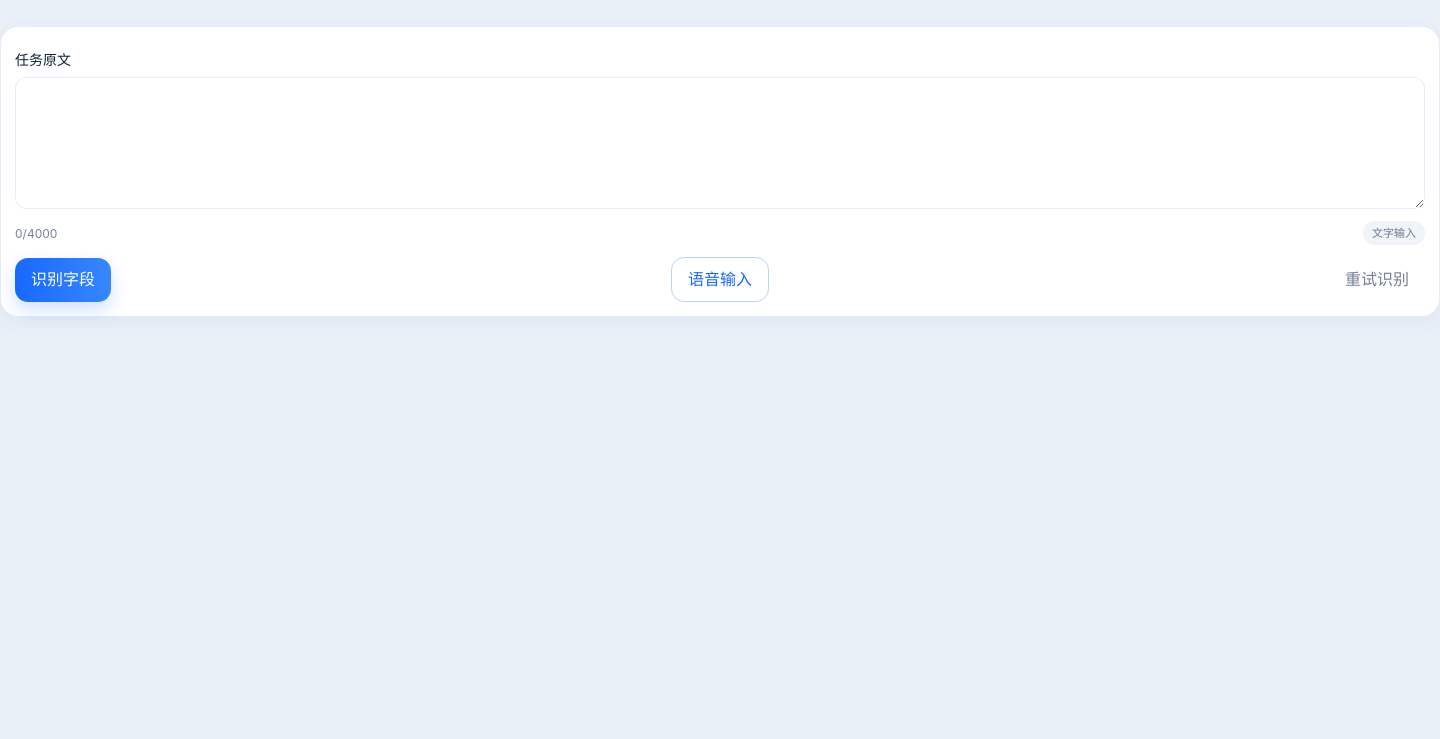
TaskIntakePage › submits text input and renders the structured extraction without creating a task
Type "请完成门店上线方案" into the text box labelled "任务原文" at (720, 143), box [15,77,1425,209]
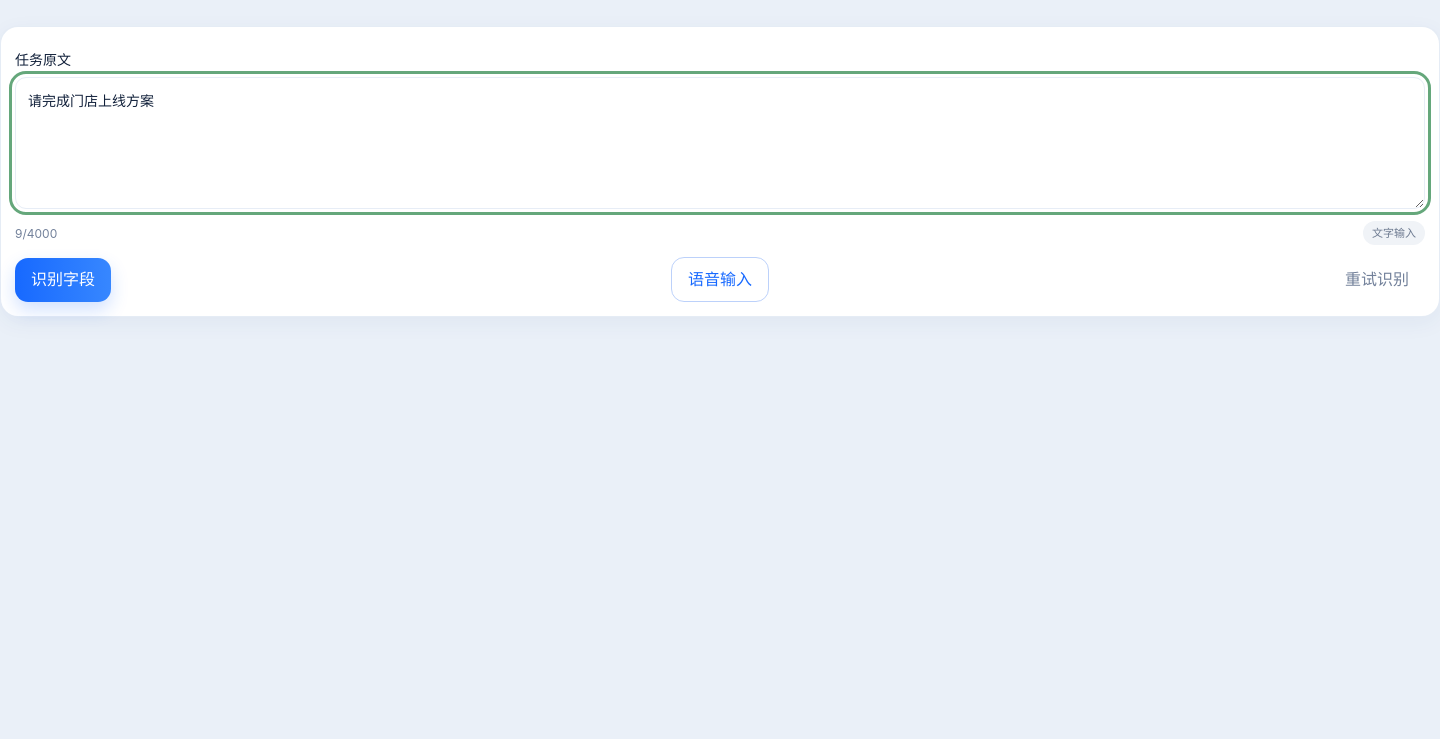
Click the button "识别字段" at (63, 280), box [15,258,111,302]
(page scrolled)
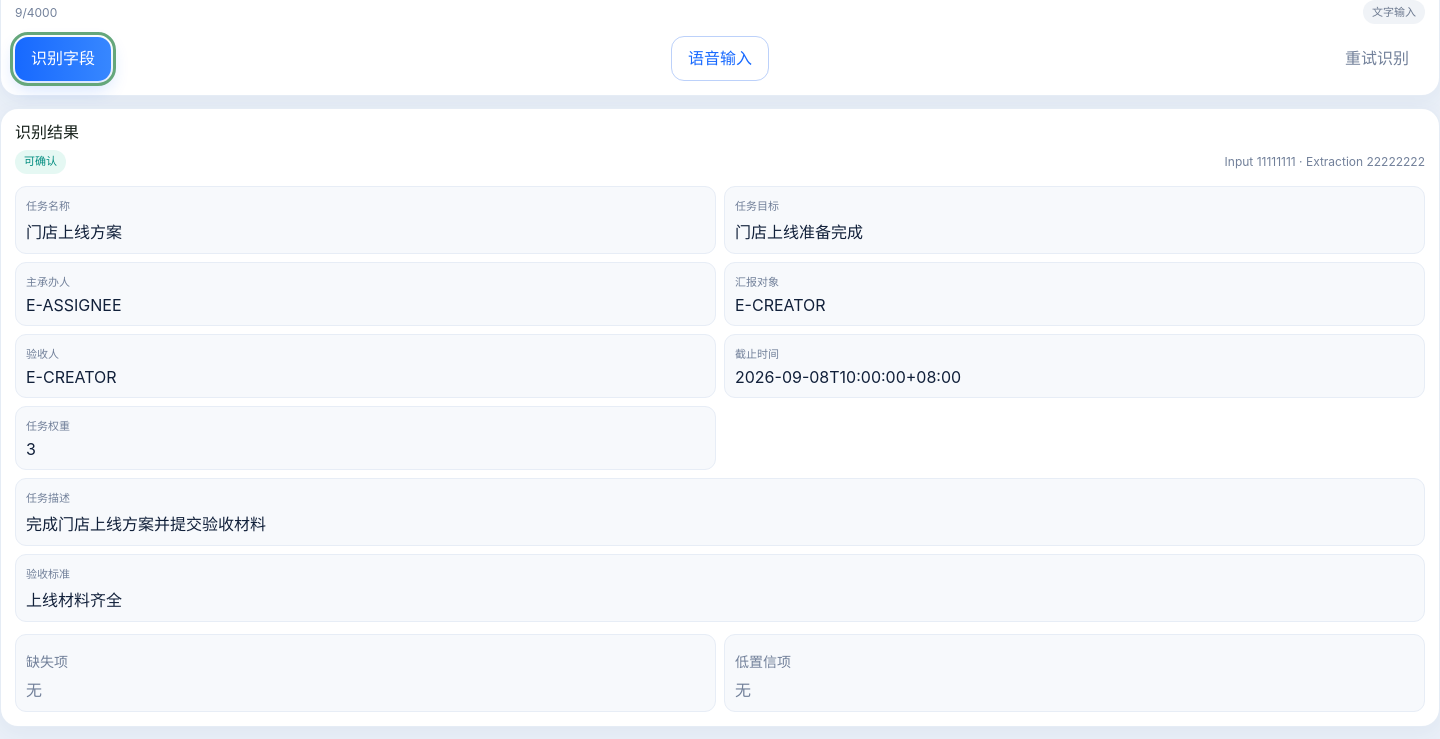
Now the text "门店上线方案" is shown, box [26,222,122,242]
Now the text "上线材料齐全" is shown, box [26,590,122,610]
